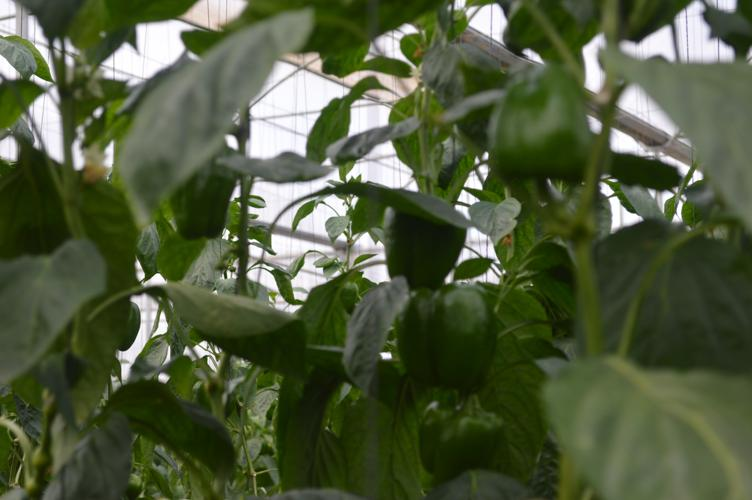BellPepper: (482, 76, 589, 178), (388, 285, 492, 382), (407, 404, 507, 479), (370, 211, 464, 285), (158, 152, 235, 240)
